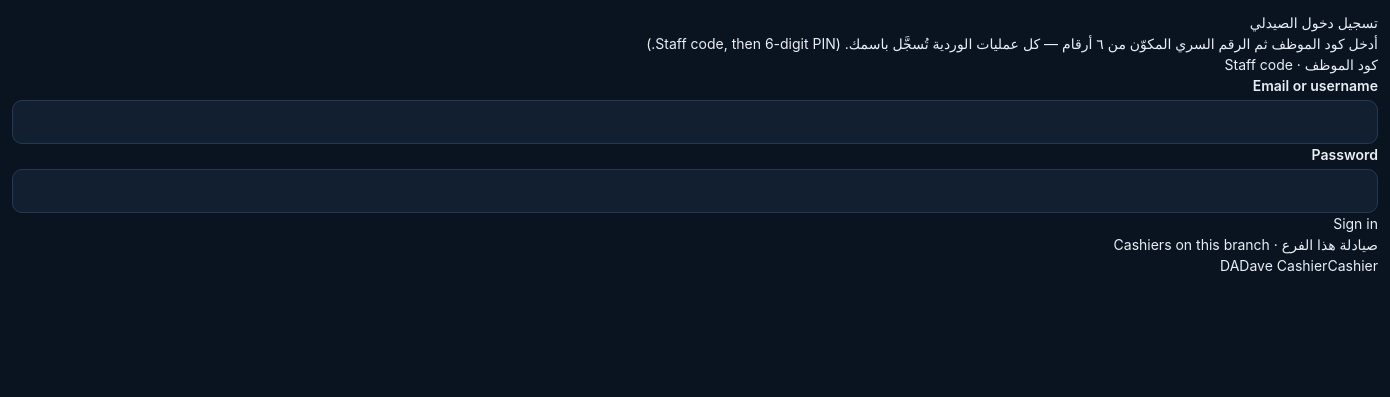
it: T059 — cashier sign-in: refused response › shows inline cashier error on refused response
The image size is (1390, 397).
Click the button with test id "roster-item-0": (1299, 266) [1220, 255, 1378, 276]
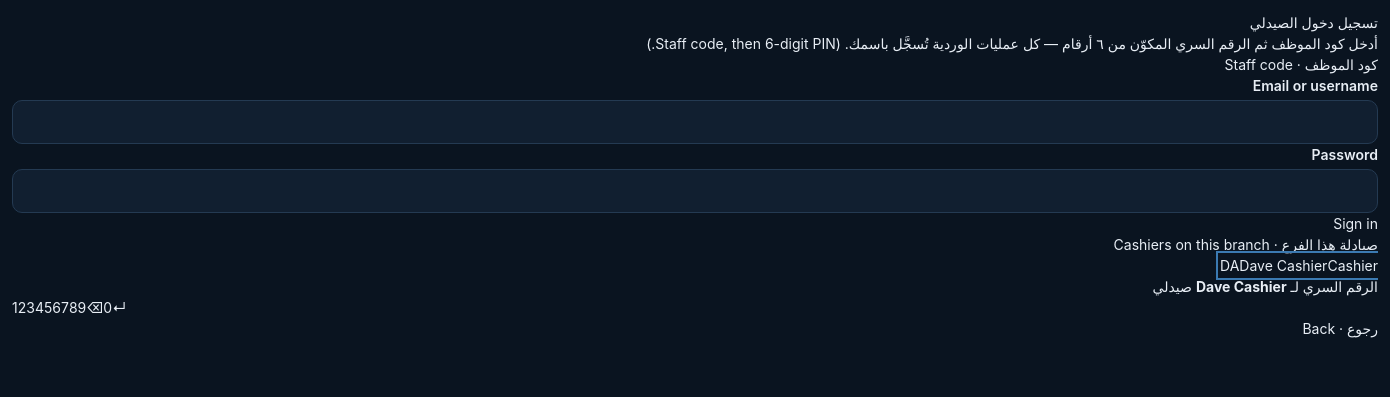
Expected: the element with test id "pin-pad" is shown, [12, 297, 126, 318]
Click the button "1": (15, 308) [12, 297, 18, 318]
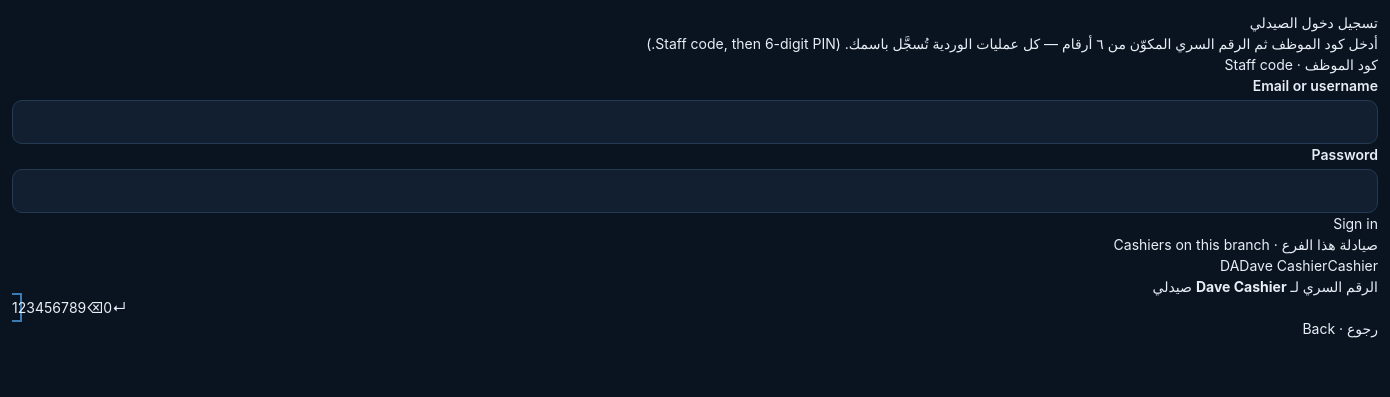
Click the button "2": (22, 308) [18, 297, 26, 318]
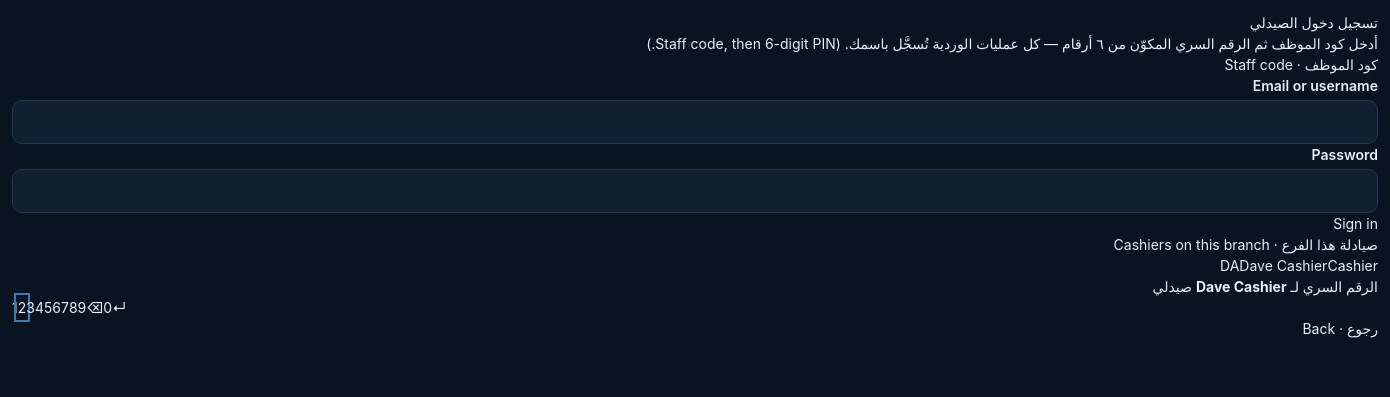
Click the button "3": (31, 308) [26, 297, 35, 318]
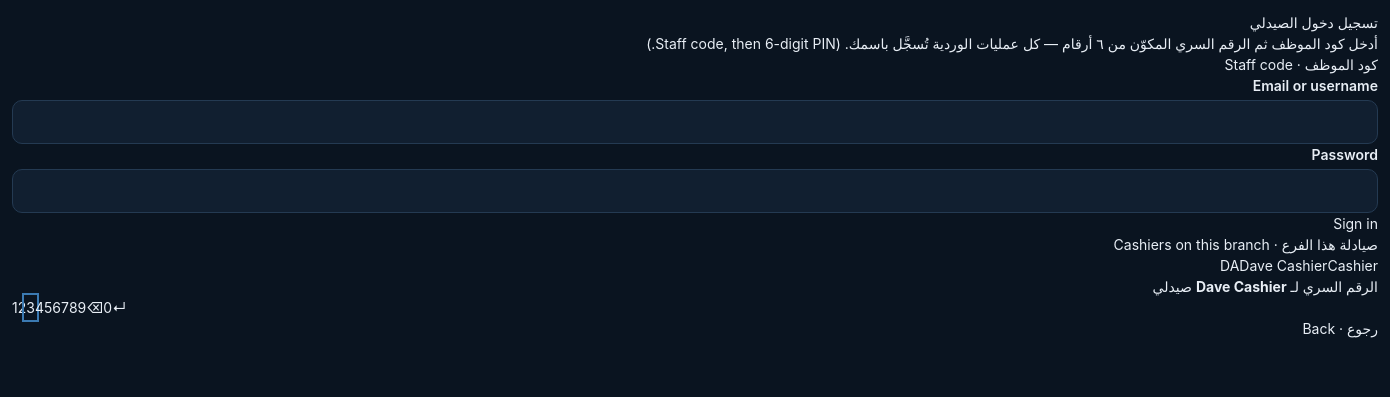
Click the button "4": (39, 308) [35, 297, 44, 318]
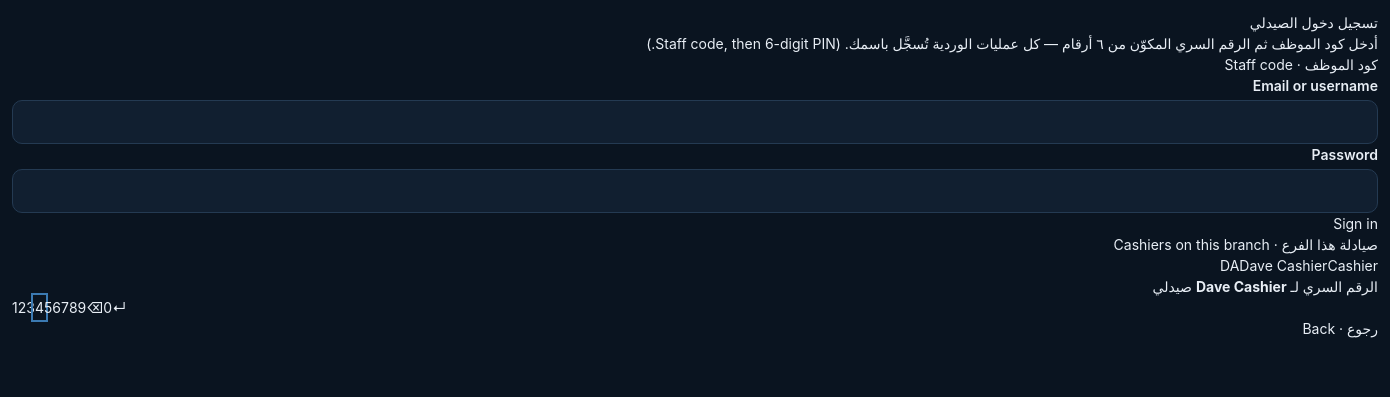
Click the button with test id "pin-pad-enter": (119, 308) [112, 297, 126, 318]
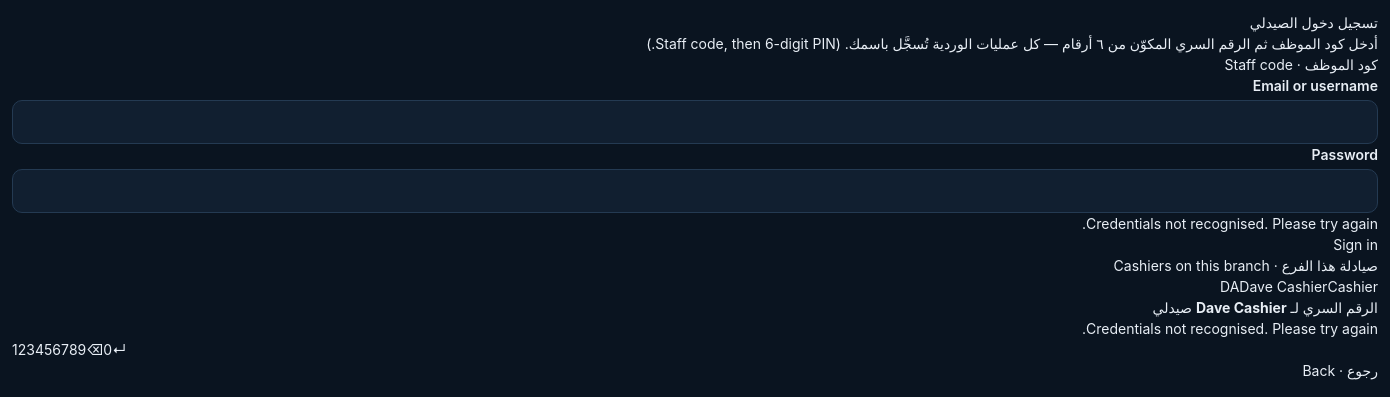
Expected: the message with test id "cashier-sign-in-error" is shown, [1082, 320, 1378, 337]
